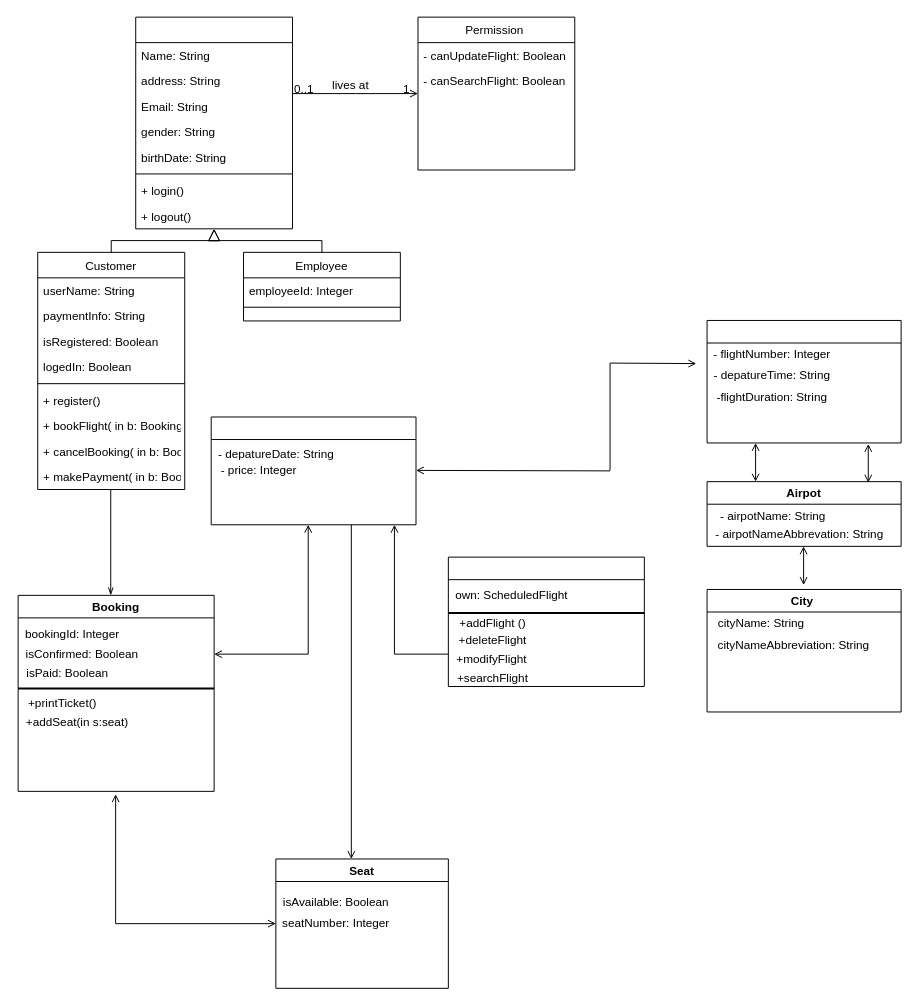
Image size: 918x1005. Some labels were removed from this diagram. Here are the shapes that lost their labels. From the top down, the box of each, then its label:
(135, 16, 293, 229): Person
(706, 319, 901, 443): FlightTemplate
(210, 416, 416, 525): scheduledFlight
(447, 556, 644, 686): Fight repository
